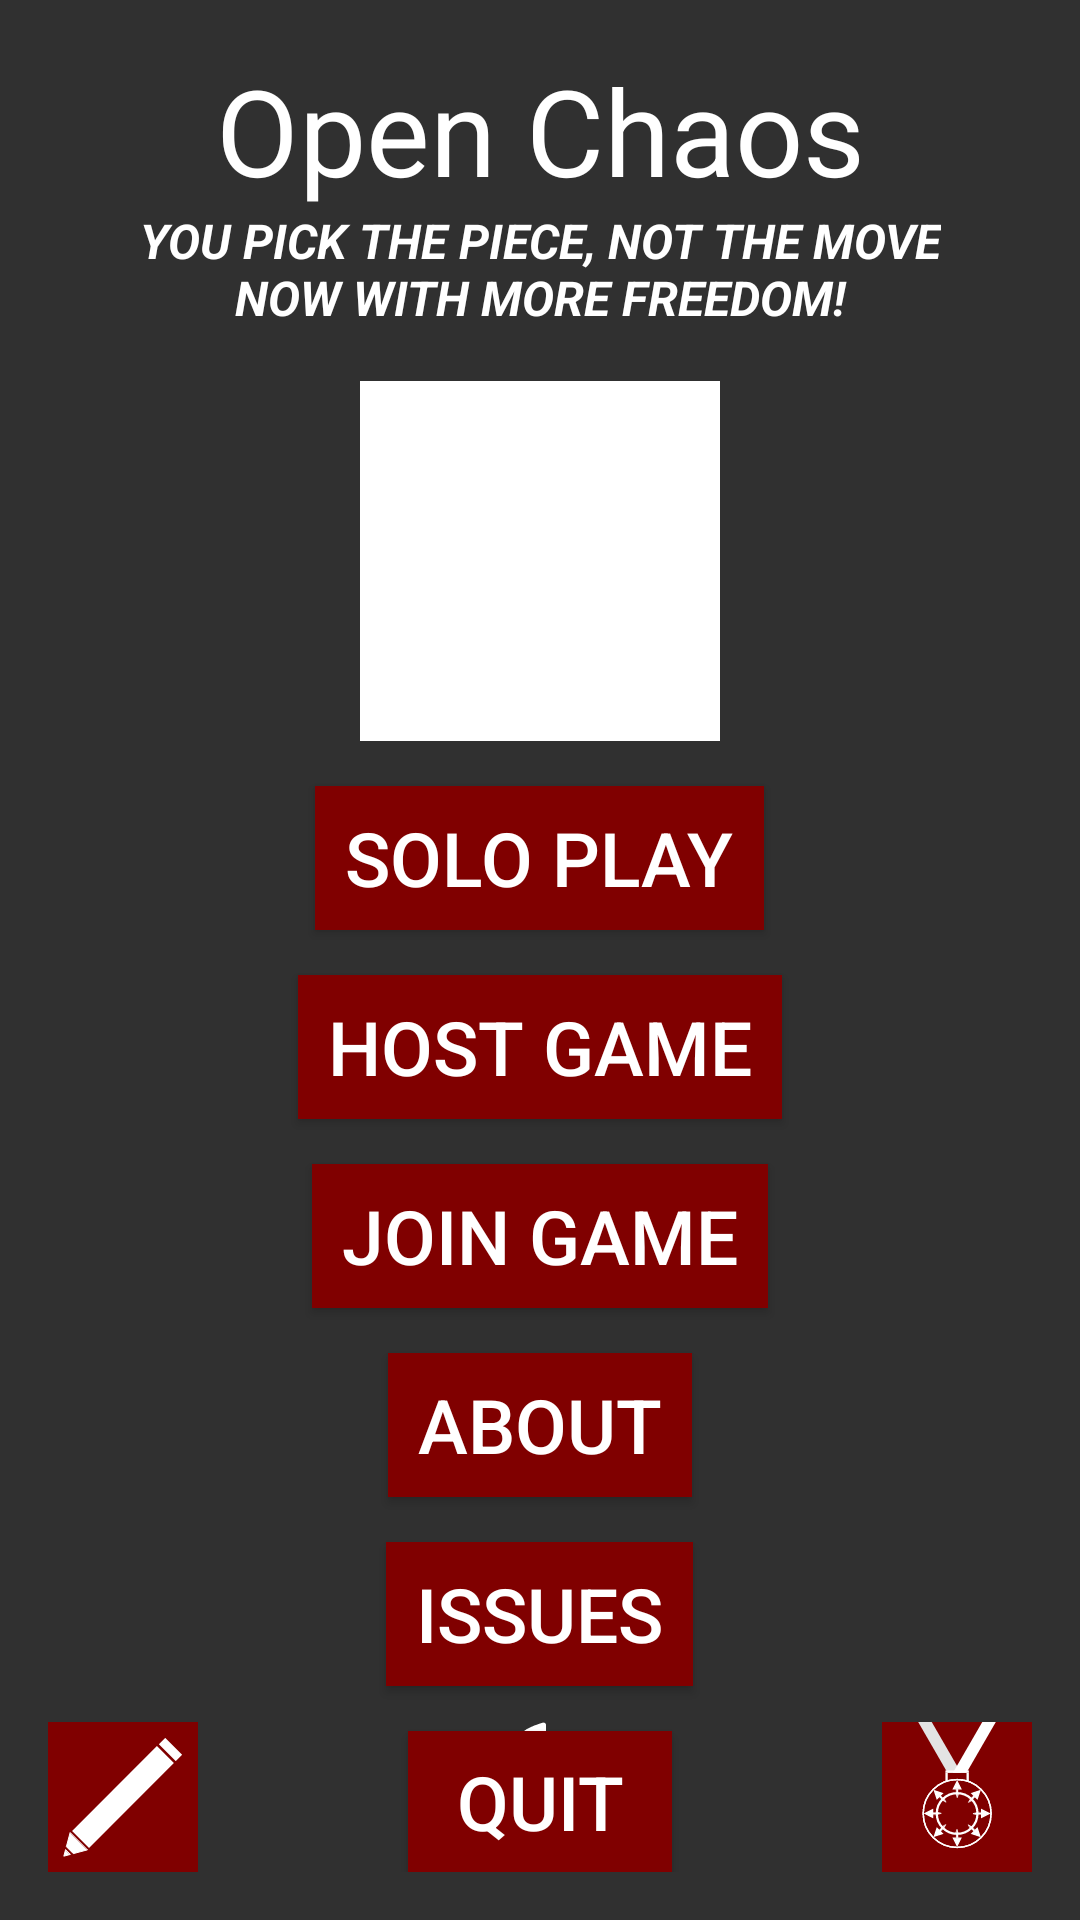

Icon bounding boxes for this 1080px×1920px phone screenshot, format {"x1": x1, "y1": y1, "x2": x2, "y2": y2}:
medal: {"x1": 882, "y1": 1722, "x2": 1032, "y2": 1872}
